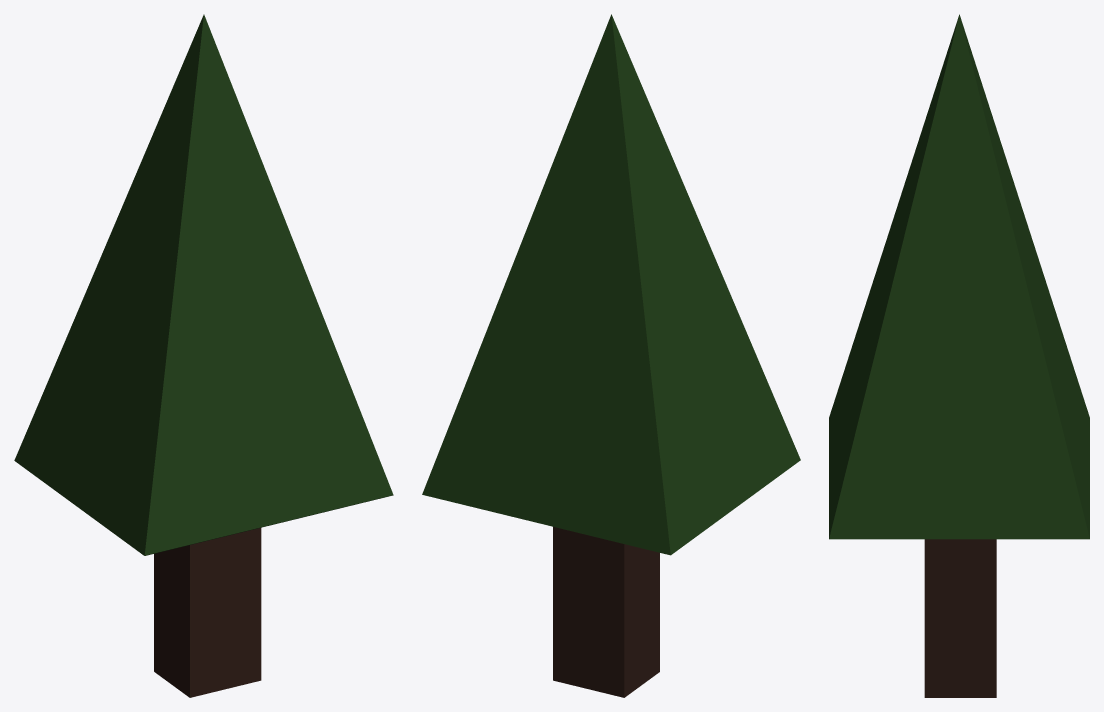
Rendered from Tree1UVW.fbx.
The picture shows the model from 3 angles, left to right: view 1: azimuth 30°, elevation 25°; view 2: azimuth 150°, elevation 25°; view 3: azimuth 270°, elevation 25°; orthographic projection.
Visible parts, largest first — view 1: Pyramid003; view 2: Pyramid003; view 3: Pyramid003.
Part boxes in pixels (x1,y1,x2,y2): Pyramid003: (14, 14, 393, 697); Pyramid003: (422, 14, 800, 697); Pyramid003: (829, 14, 1089, 697).
Bounding box in the file's own units: 10.06 × 25.61 × 9.12.
